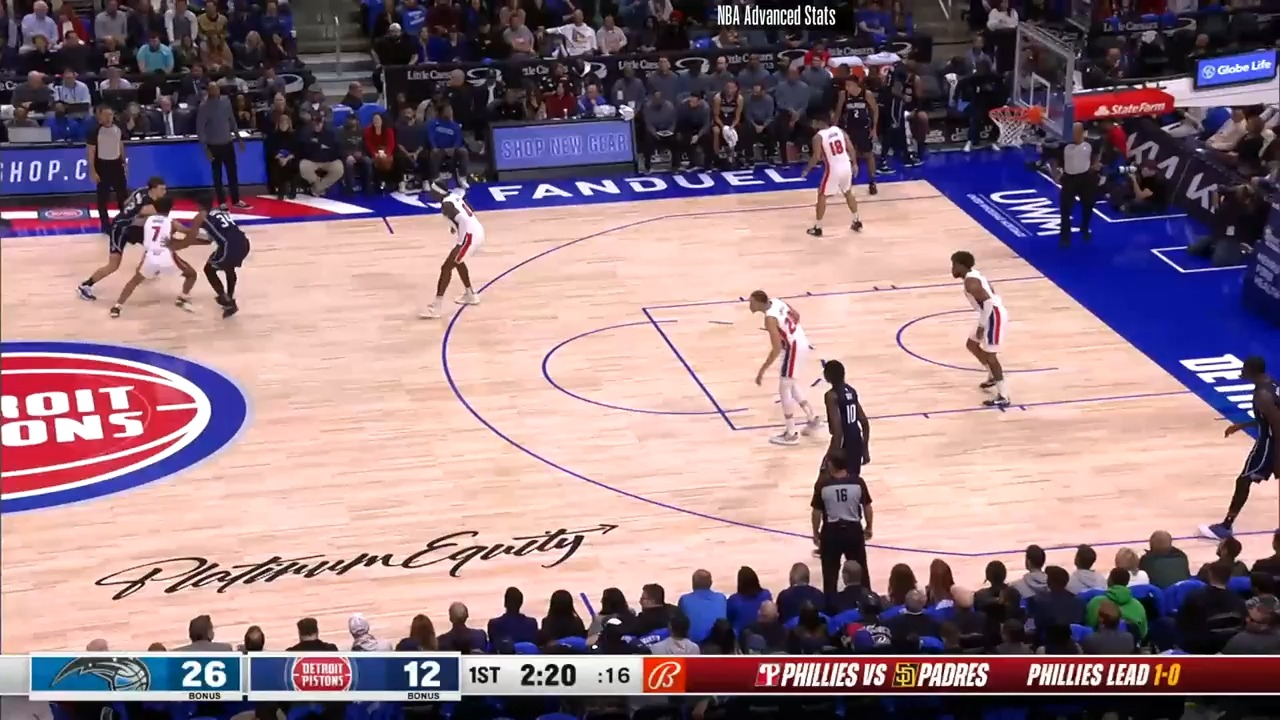net: (985, 101, 1045, 153)
player: (1214, 352, 1280, 549), (738, 287, 816, 450), (110, 188, 207, 318), (942, 247, 1014, 416), (79, 178, 171, 306), (807, 358, 876, 500), (184, 192, 253, 321), (423, 184, 487, 317), (806, 112, 866, 242), (834, 76, 883, 203)
referee: (809, 451, 877, 592), (87, 103, 135, 239), (1052, 123, 1101, 250)
